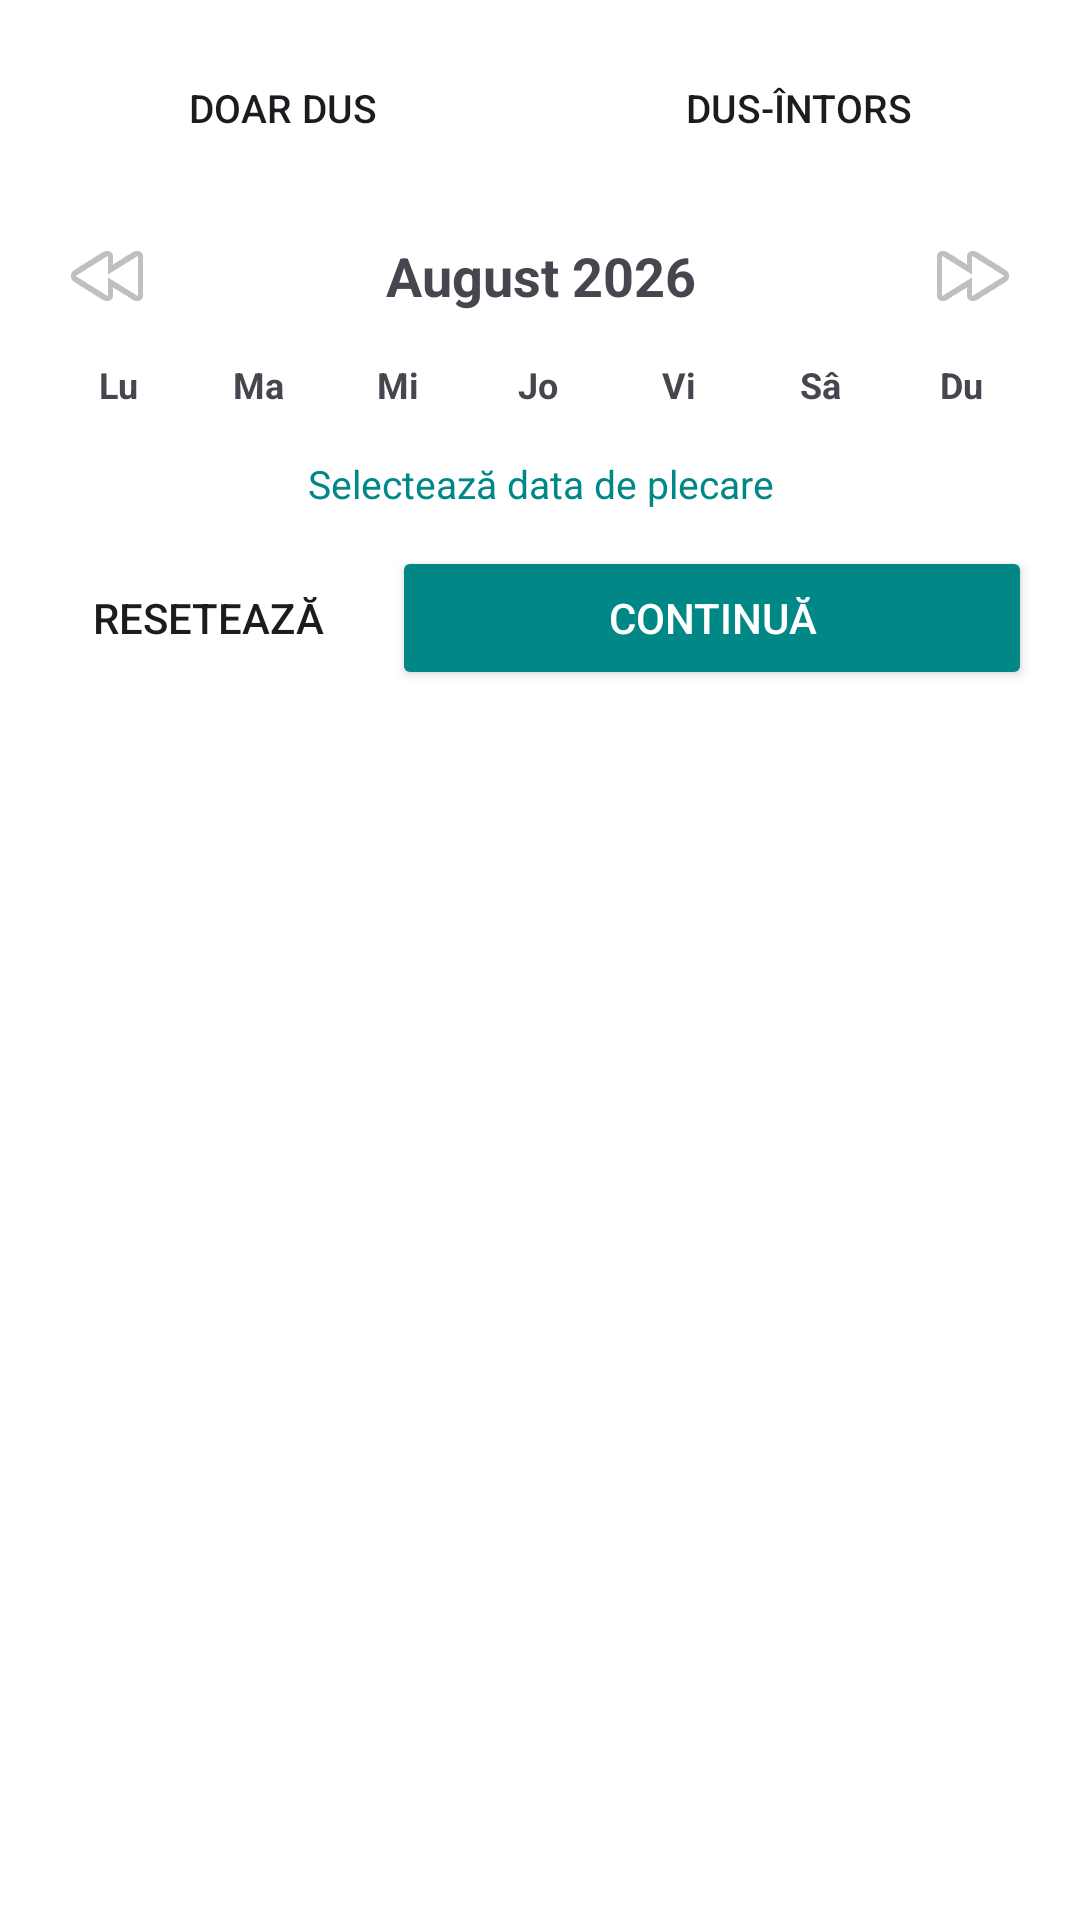

Where icons sit on this 1080×1920 app screen, as (x1, y1, x2, y2):
rew: (71, 251, 143, 301)
